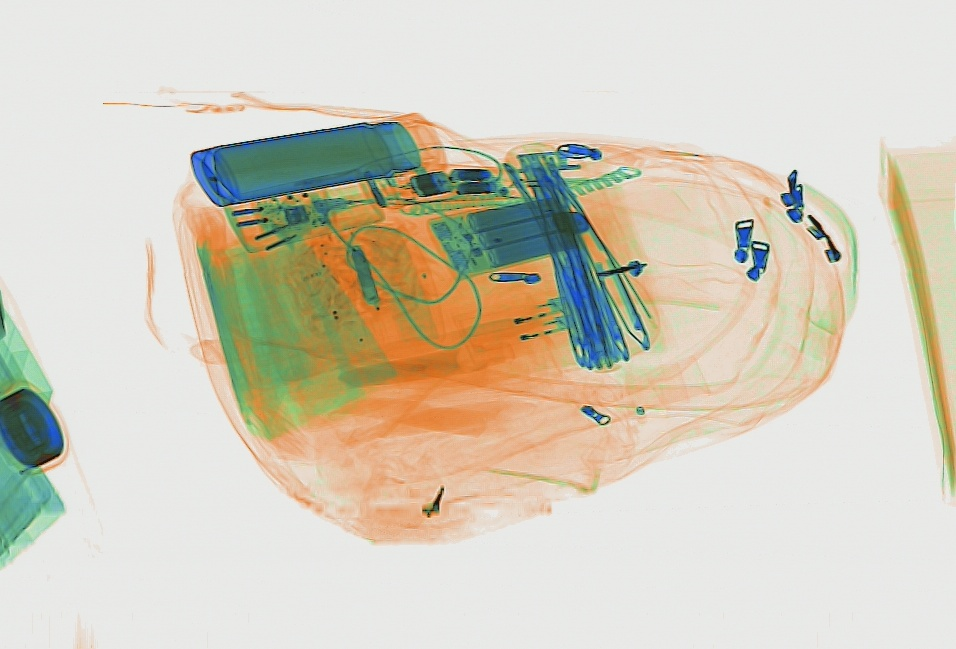lighter: (460, 310, 583, 367), (454, 292, 571, 345)
powerbank: (426, 196, 585, 279)
